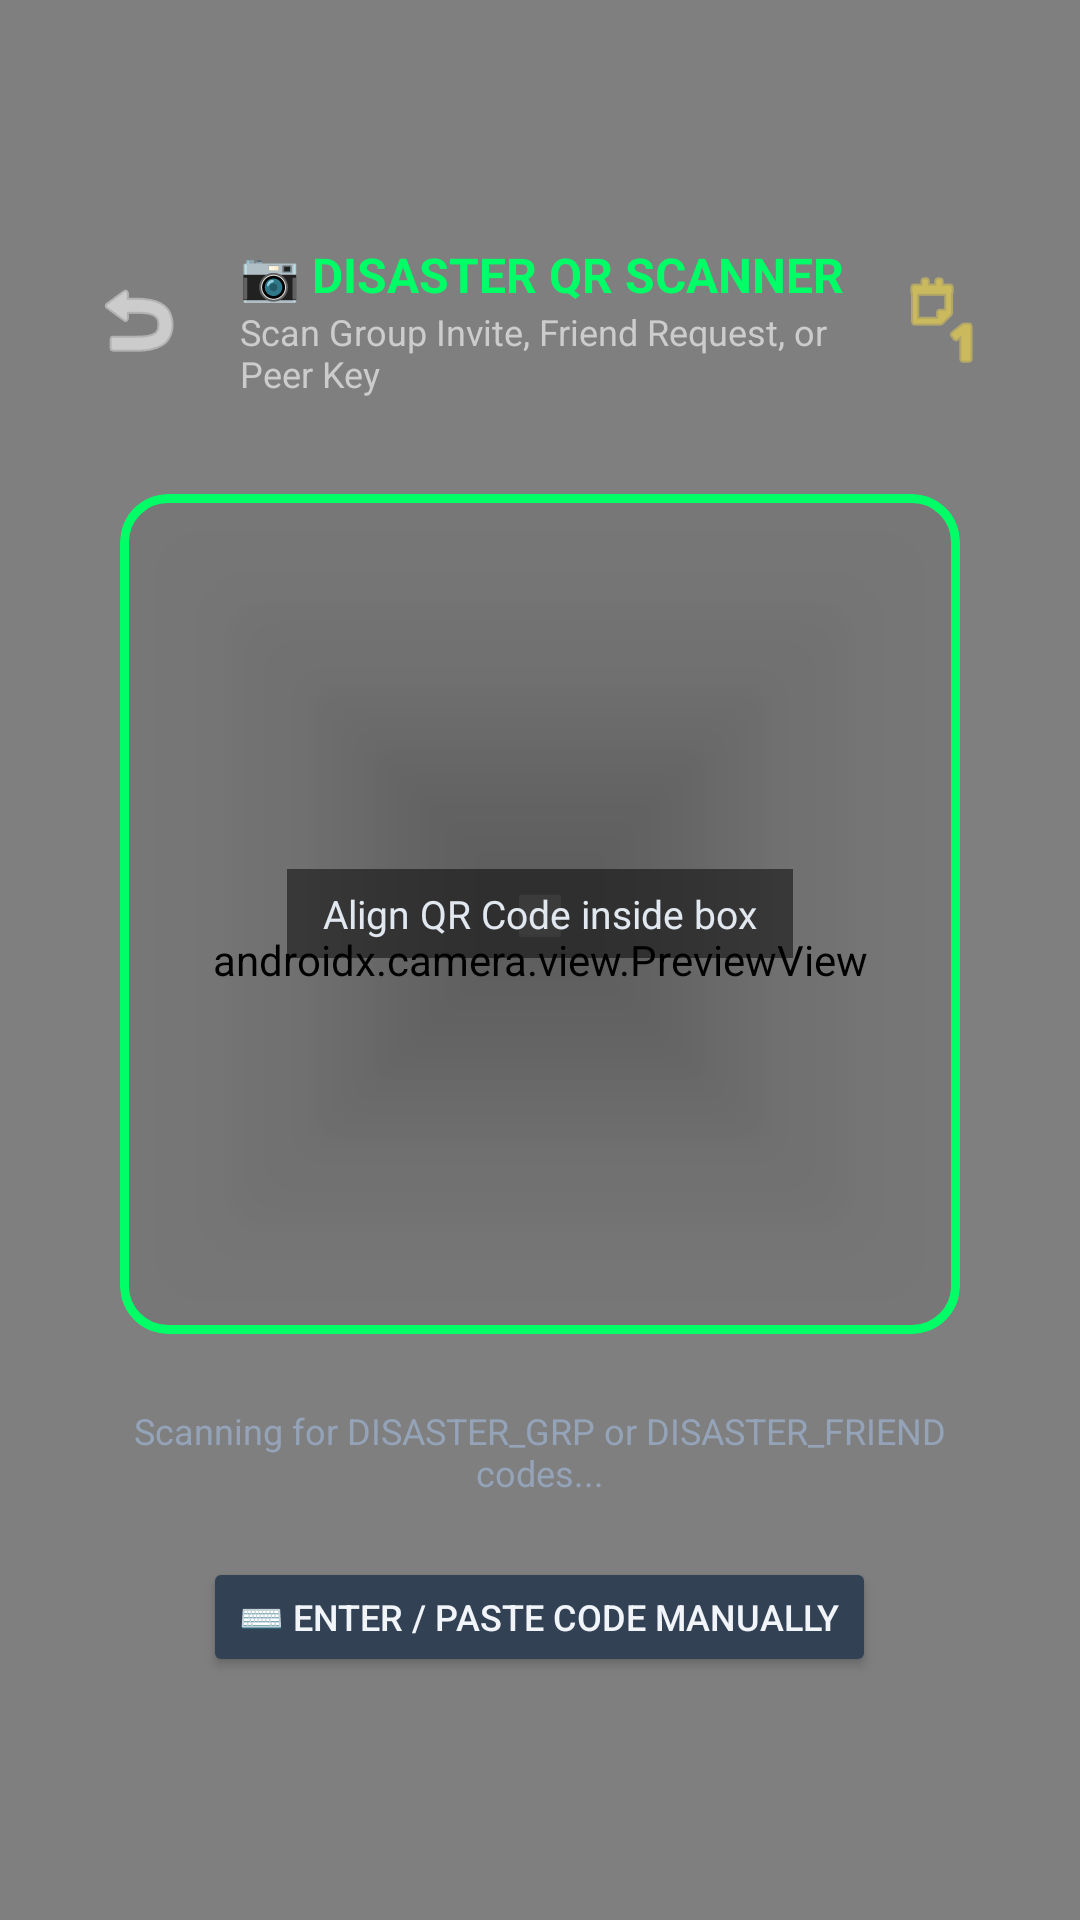

Named icons in this screenshot (1080w x 1920h) and their centers, (x,y):
Back: (139,321)
